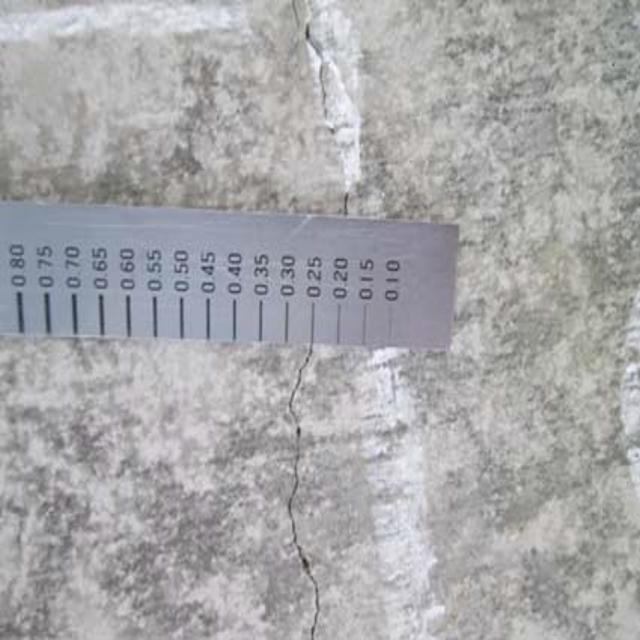crack: (267, 353, 343, 640), (283, 9, 366, 214)
